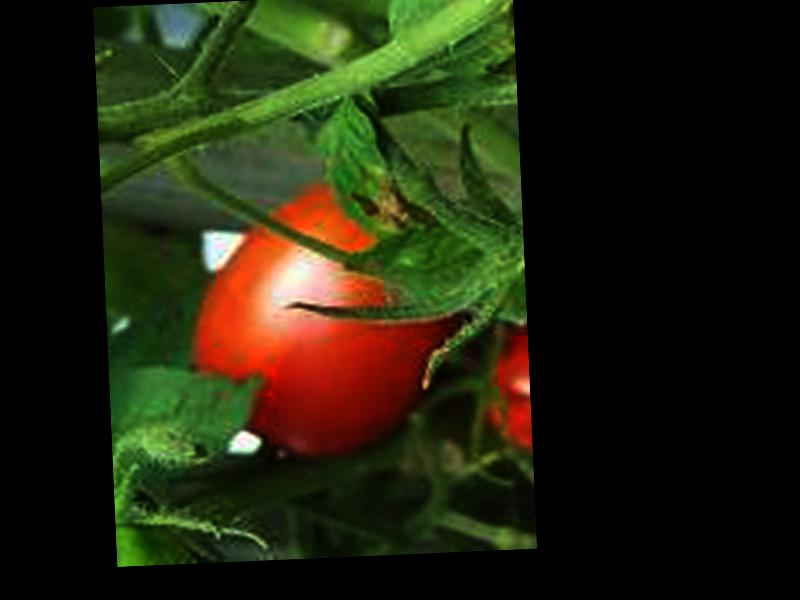Tomato: (184, 184, 453, 461)
